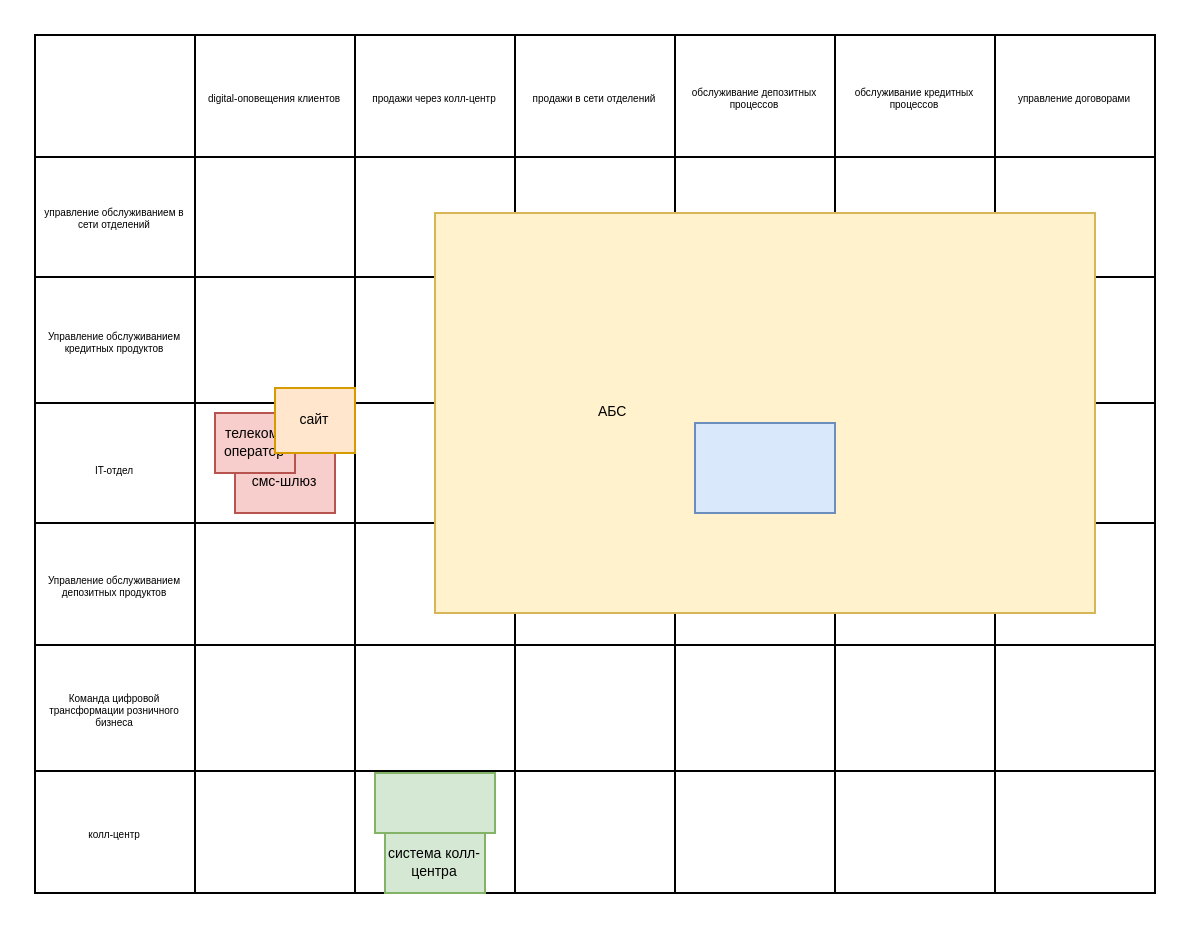
Some shapes in this 1190 by 928 pixel diagram are drawn without their labels. The shapes that lost their labels are listed below. From the top down, each one's centre as x and y in pixels, then its label:
[764,467]: интернет-банк
[434,802]: система партнерского колл-центра
